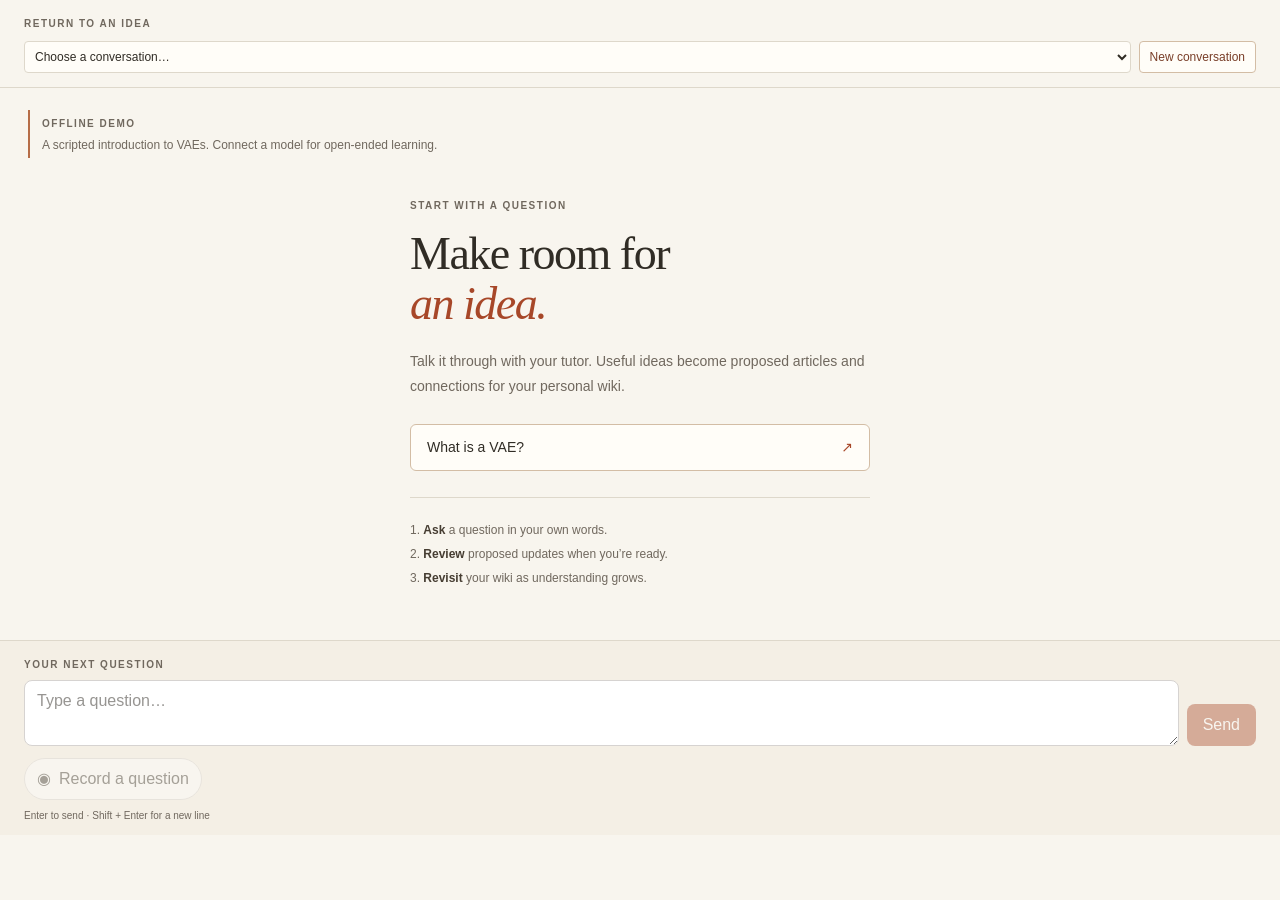
demo shortcut prepares a question without sending it
Expected: the text "Offline demo" is shown, x1=42 y1=118 x2=136 y2=129
Click the button "What is a VAE? ↗": (476, 447) x1=410 y1=424 x2=870 y2=471
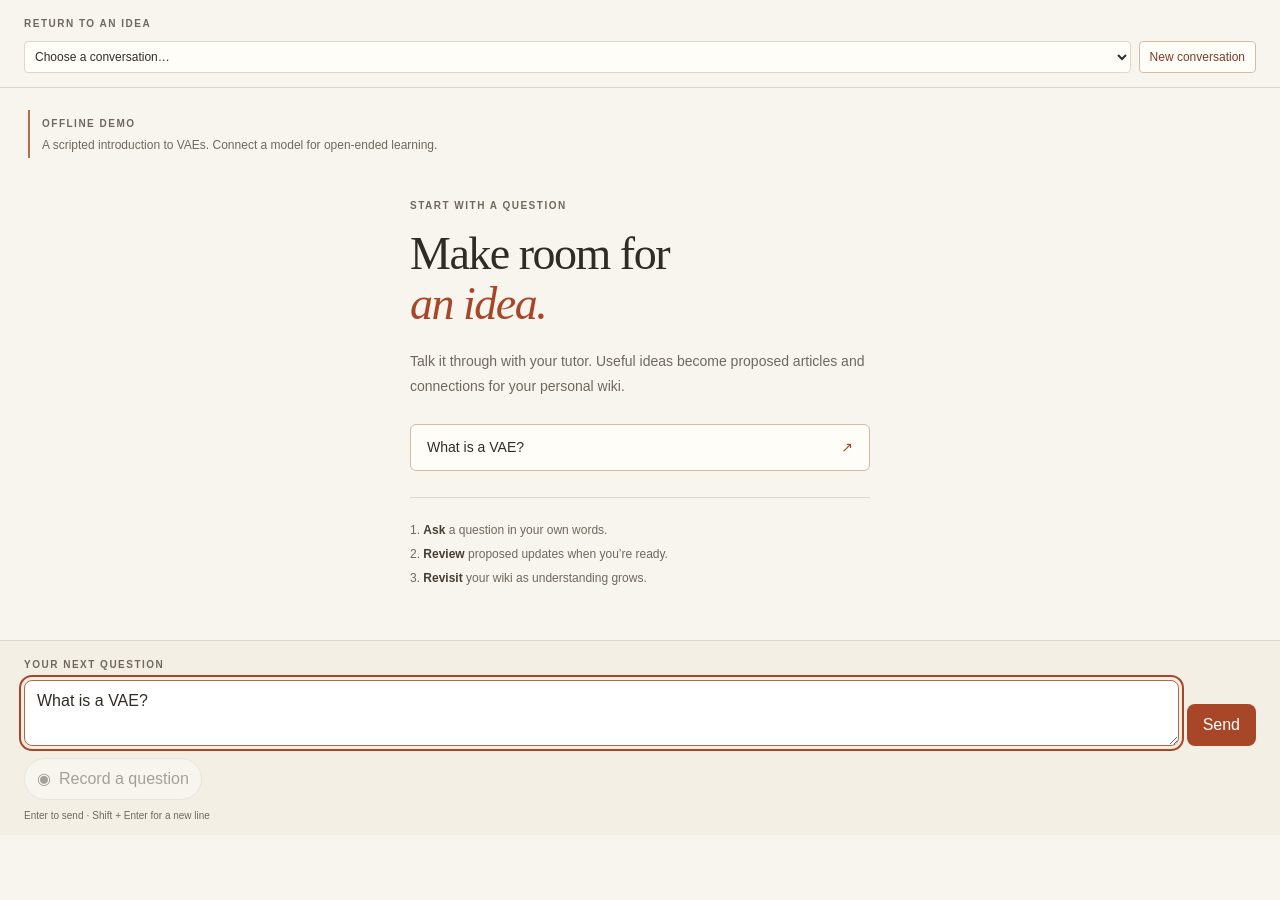
Expected: the text box labelled "Your next question" holds "What is a VAE?", x1=24 y1=680 x2=1179 y2=746
